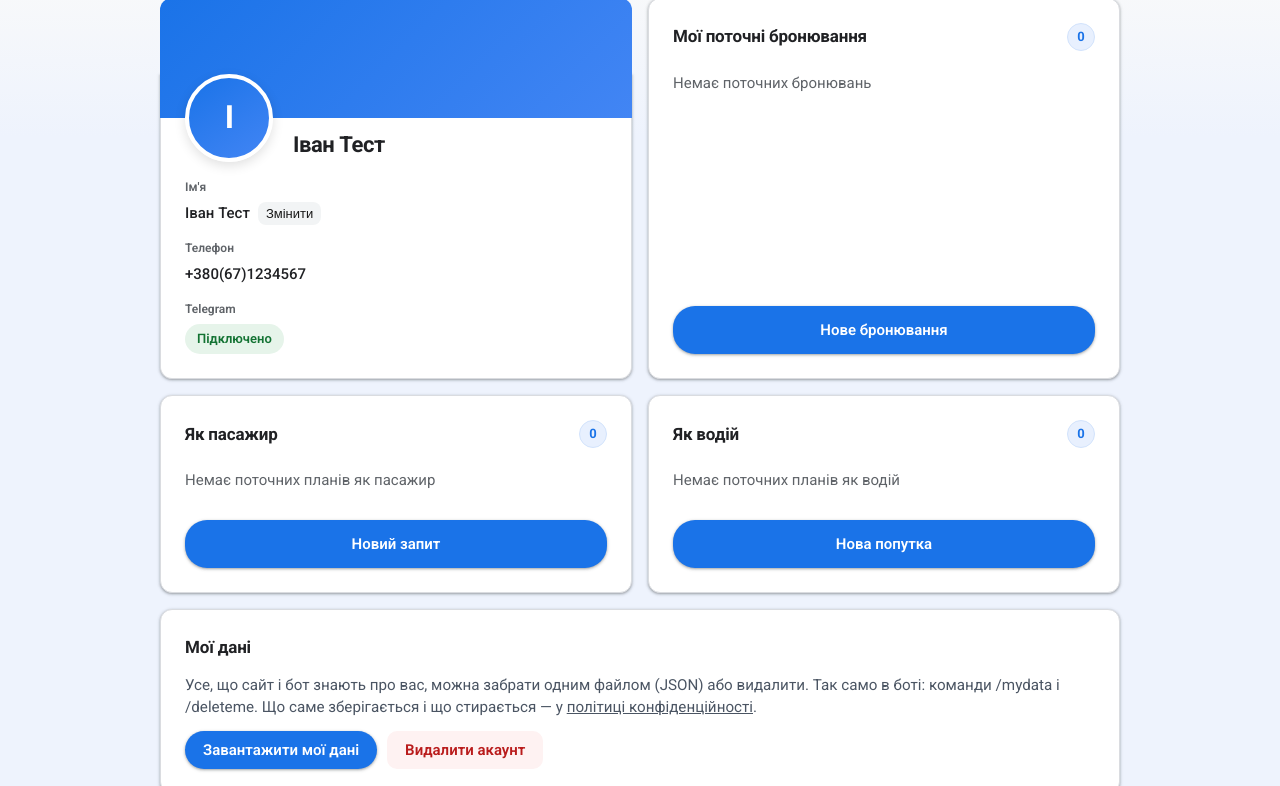
Test: UserPage: «Мої дані» › «Видалити акаунт»: підтвердження → DELETE /user {confirm:true} → вихід із сесії і підсумок
Click the button "Видалити акаунт" at (465,750), box [387,731,543,769]
(page scrolled)
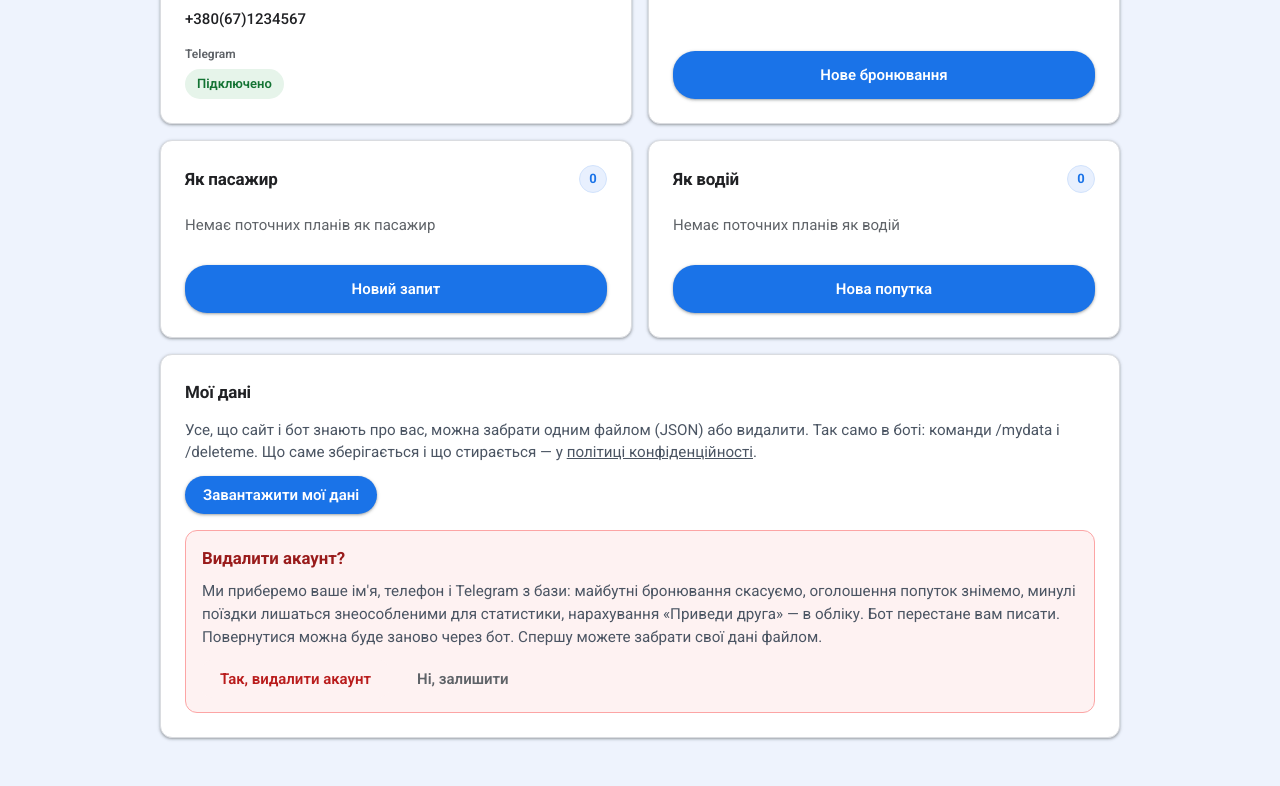
Check: the element "Видалити акаунт?" shows "майбутні бронювання скасуємо", box [202,582,1076,646]
# «Ні» ховає підтвердження, нічого не шле
Click the button "Ні, залишити" at (463,679), box [399,660,527,698]
(page scrolled)
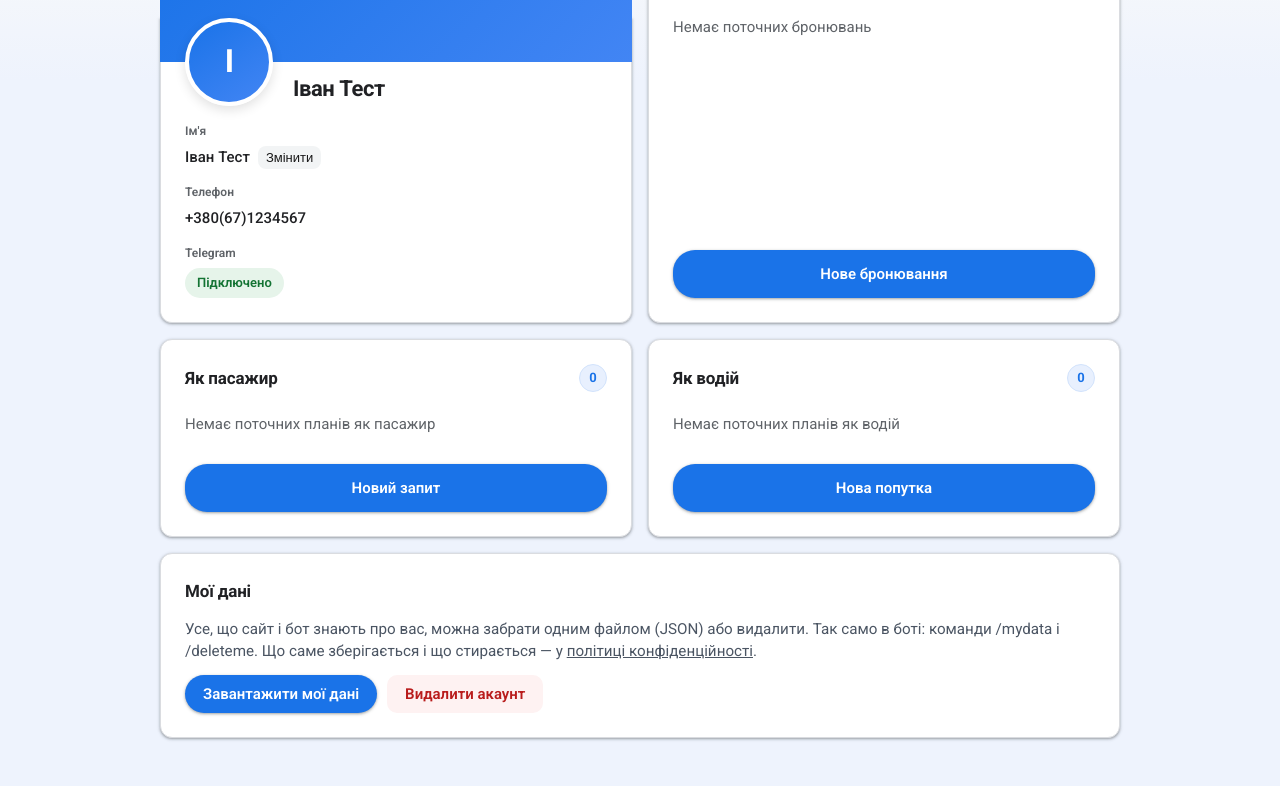
Click the button "Видалити акаунт" at (465,694), box [387,675,543,713]
(page scrolled)
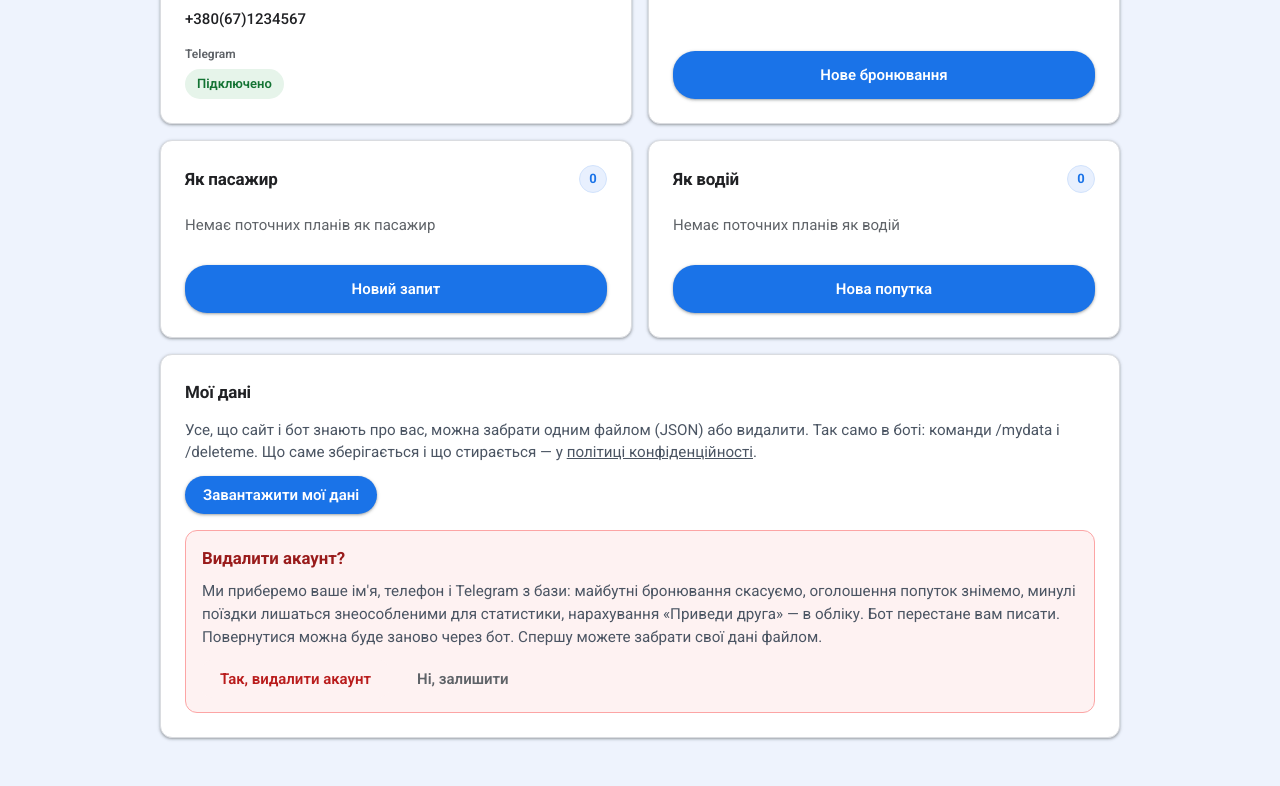
Click the button "Так, видалити акаунт" at (296,679), box [202,660,389,698]
(page scrolled)
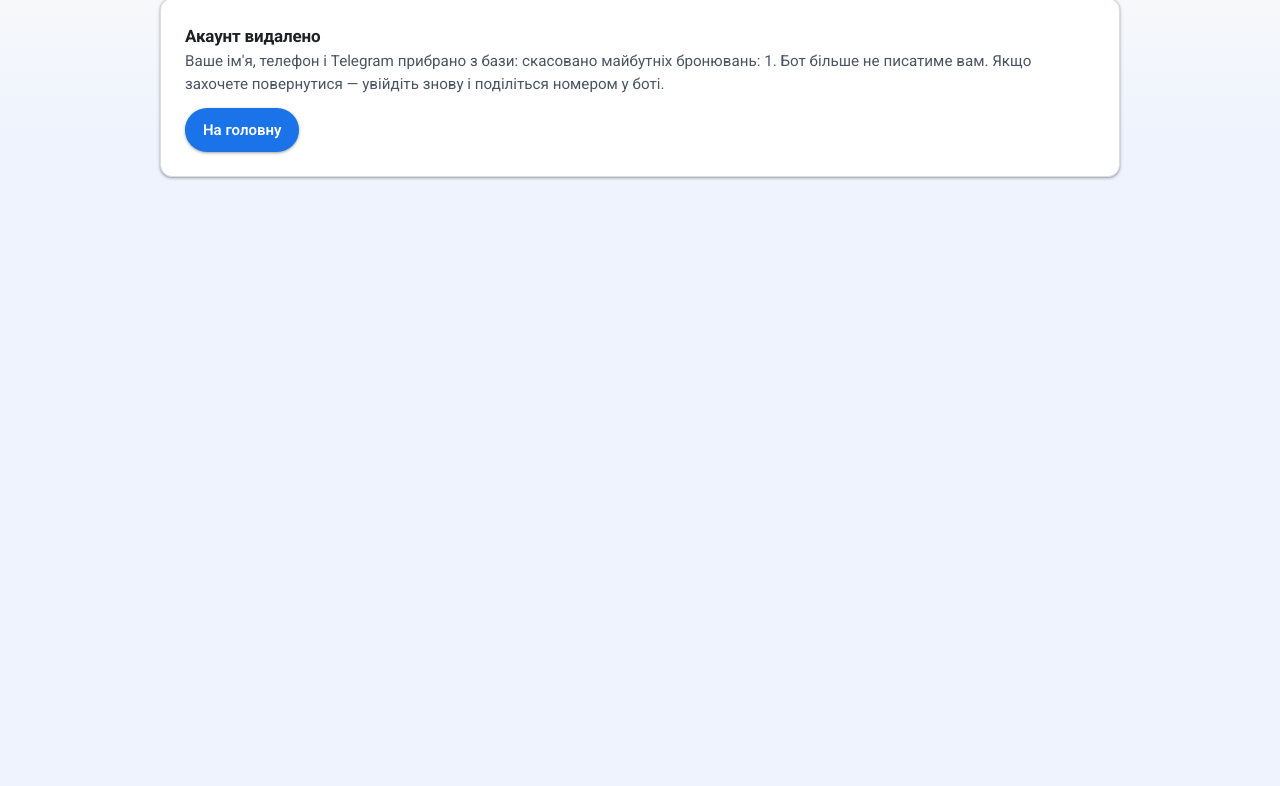
Check: the heading "Акаунт видалено" is shown, box [185,26,320,46]
Check: the text "скасовано майбутніх бронювань: 1" is shown, box [515,52,773,70]
